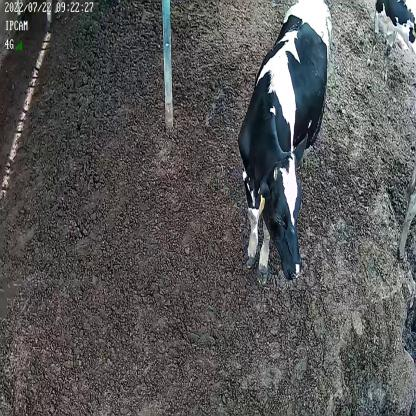cow: (237, 2, 331, 288)
